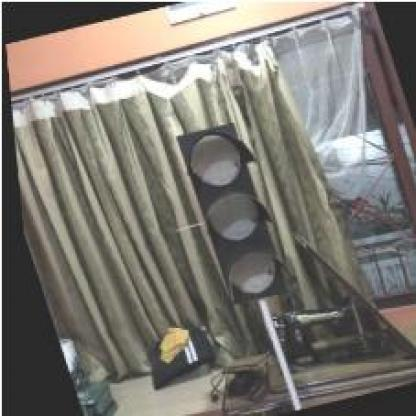yellow: (170, 120, 288, 305)
